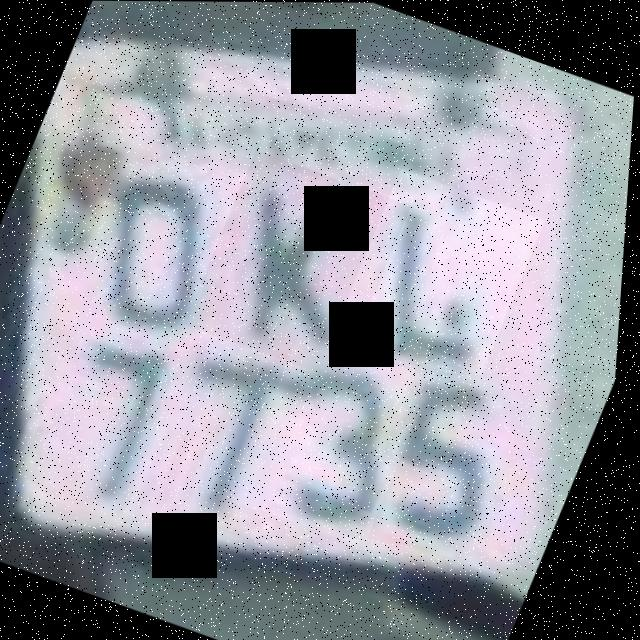1: (30, 309, 225, 523)
3: (234, 330, 440, 548)
5: (355, 339, 551, 550)
7: (23, 312, 223, 532), (141, 331, 324, 541)
J: (339, 167, 550, 374)
X: (185, 149, 416, 379)
